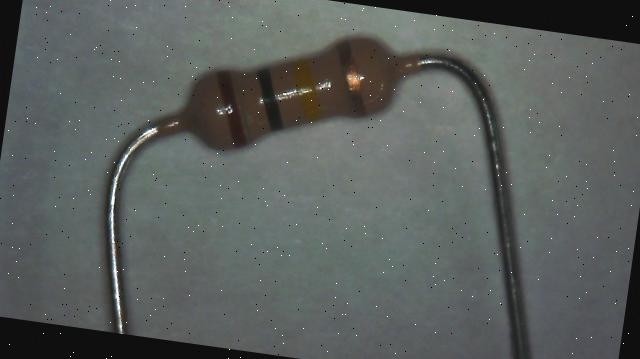black: (248, 66, 292, 139)
brown: (208, 66, 252, 145)
gold: (328, 38, 378, 119)
resistor: (144, 10, 433, 190)
yellow: (287, 55, 325, 117)
